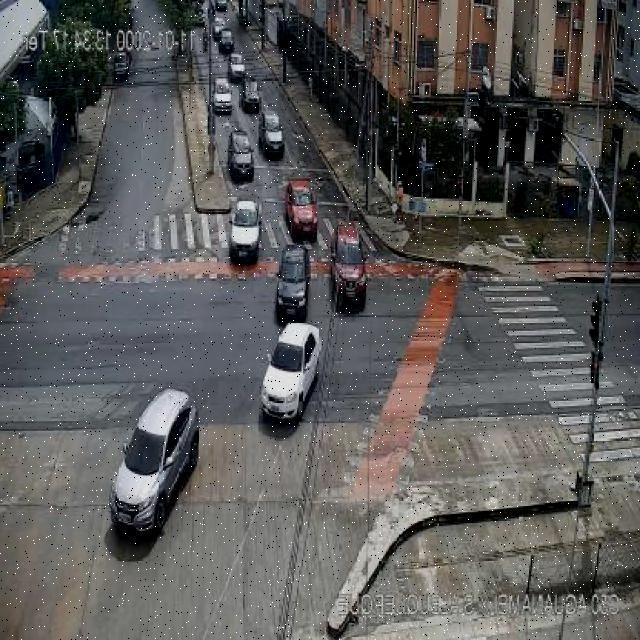Car: (109, 388, 198, 538), (260, 322, 322, 422), (330, 223, 368, 311), (274, 244, 312, 320), (284, 178, 318, 240), (228, 200, 261, 263), (227, 132, 255, 180), (260, 111, 286, 158), (212, 78, 233, 114), (242, 78, 262, 112), (113, 51, 131, 82), (228, 53, 245, 81), (218, 28, 235, 54), (212, 18, 226, 41), (215, 0, 228, 12)
